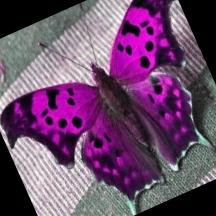butterfly: (0, 0, 210, 215)
